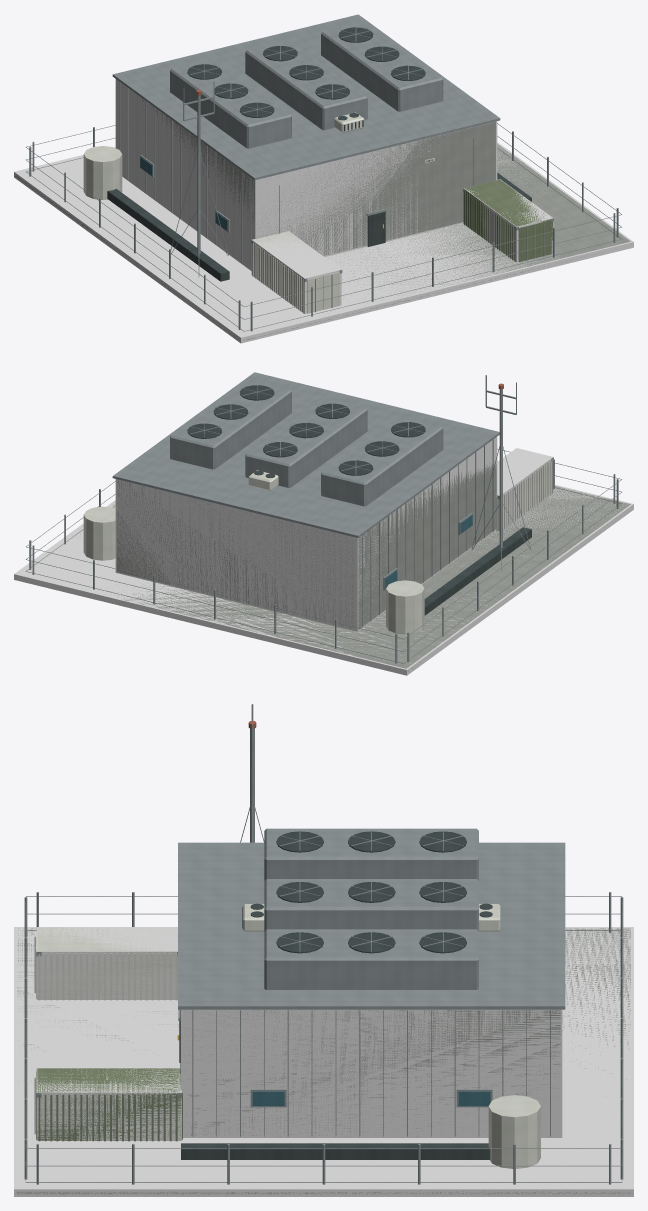
The model's file is DataCenter.fbx.
3 renders of one model, top to bottom at view 1: azimuth 30°, elevation 25°; view 2: azimuth 150°, elevation 25°; view 3: azimuth 270°, elevation 25°, orthographic. The views are drawn at different scales.
Visible parts, largest first — view 1: LOD0, COL_Static; view 2: LOD0, COL_Static; view 3: LOD0, COL_Static.
Part boxes in pixels (<box>): LOD0: <box>15,14,630,340</box>; COL_Static: <box>14,79,633,343</box>; LOD0: <box>26,372,630,671</box>; COL_Static: <box>14,437,633,675</box>; LOD0: <box>17,704,630,1194</box>; COL_Static: <box>14,927,633,1196</box>.
Size of what is drawn, in the model's own units: 2600 by 1160 by 2600.
